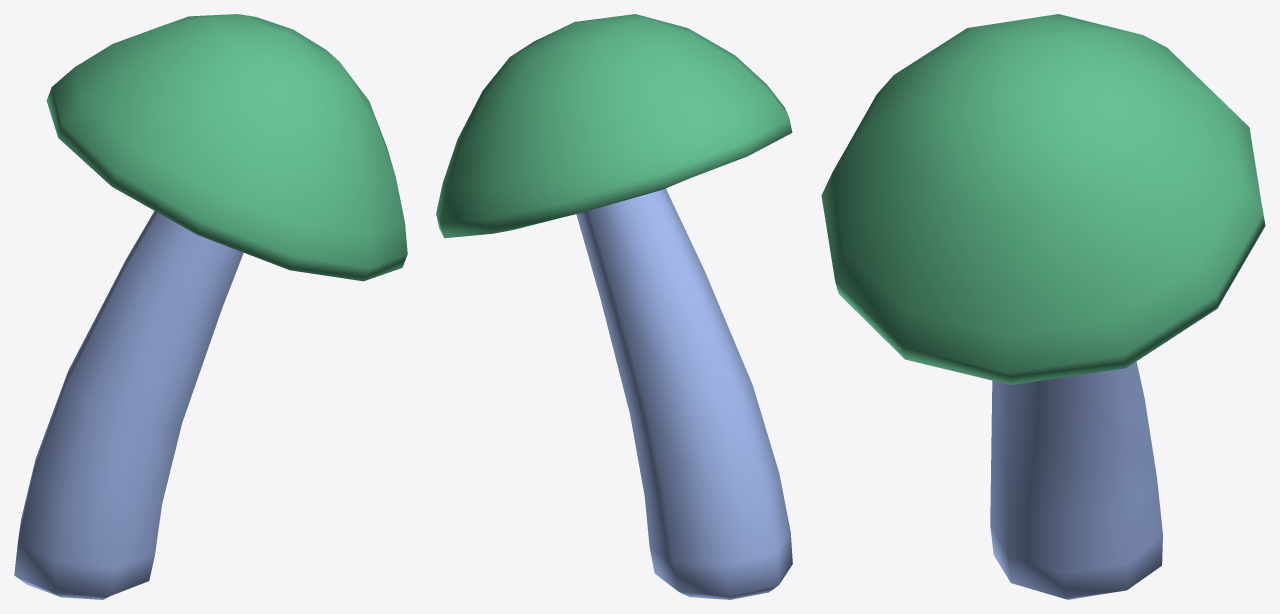
File: Shroom_B_03.fbx
3 views of the same model, side by side, from view 1: azimuth 30°, elevation 25°; view 2: azimuth 150°, elevation 25°; view 3: azimuth 270°, elevation 25° (orthographic). The views are drawn at different scales.
Visible parts, largest first — view 1: Shroom_B_03_LOD0; view 2: Shroom_B_03_LOD0; view 3: Shroom_B_03_LOD0.
Boxes of the visible parts, box(x1,y1,x2,y2) form: Shroom_B_03_LOD0: box(14, 14, 407, 599); Shroom_B_03_LOD0: box(436, 14, 792, 599); Shroom_B_03_LOD0: box(821, 14, 1265, 599).
Size of what is drawn, in the model's own units: 151 by 222 by 146.
